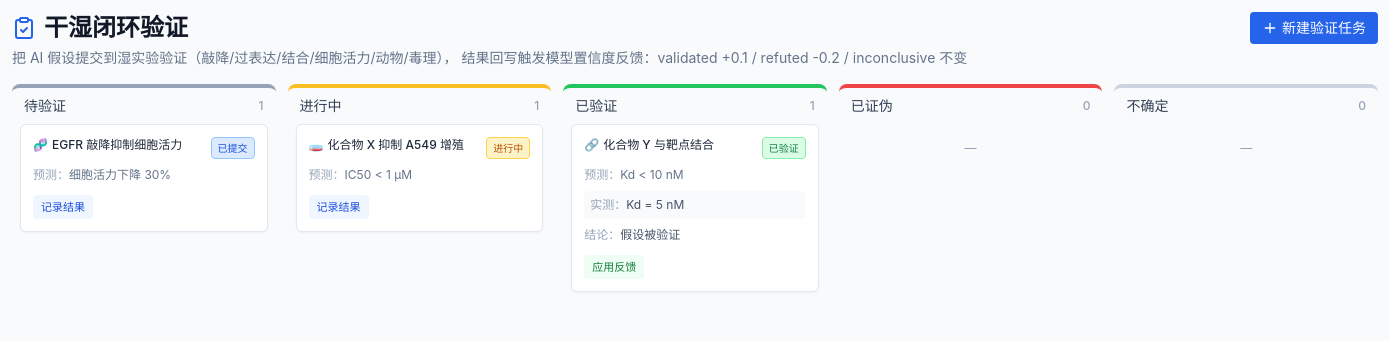
Test: ValidationsPage › 应用反馈成功后显示置信度变化
Expected: the text "化合物 Y 与靶点结合" is shown, x1=603 y1=137 x2=714 y2=152
Click the button "应用反馈".
click(614, 267)  # box x1=584 y1=255 x2=644 y2=279
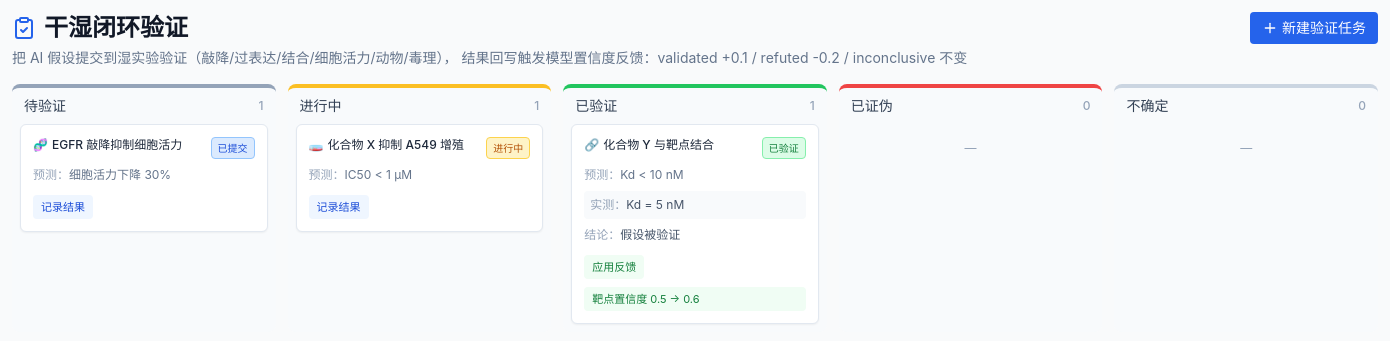
Expected: the text "靶点置信度 0.5 → 0.6" is shown, x1=584 y1=287 x2=806 y2=311
